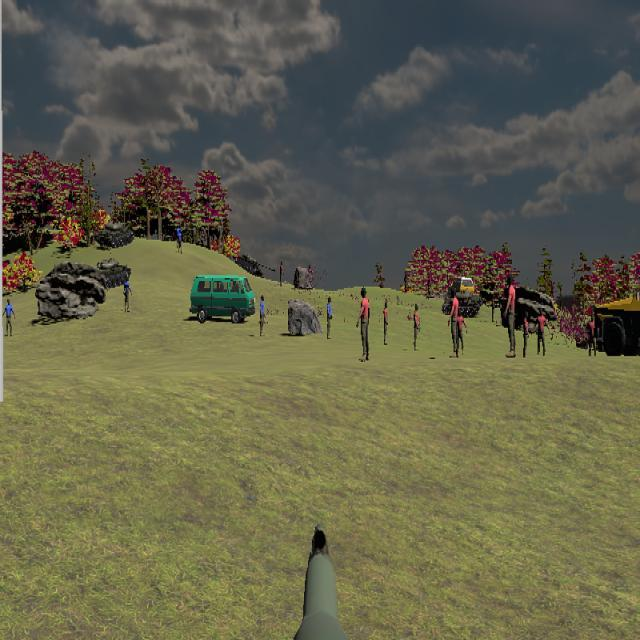Human: (503, 273, 518, 359), (356, 287, 371, 362), (532, 307, 550, 357), (448, 287, 461, 356), (448, 285, 460, 356), (453, 305, 468, 358), (3, 298, 16, 337)
Tank: (90, 256, 131, 288), (93, 219, 136, 249)
car: (593, 277, 640, 358), (190, 274, 255, 324), (450, 277, 477, 300)
